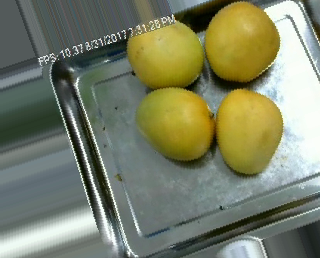Mango: (205, 1, 280, 81), (135, 87, 216, 160), (218, 88, 284, 176), (126, 18, 205, 90)
